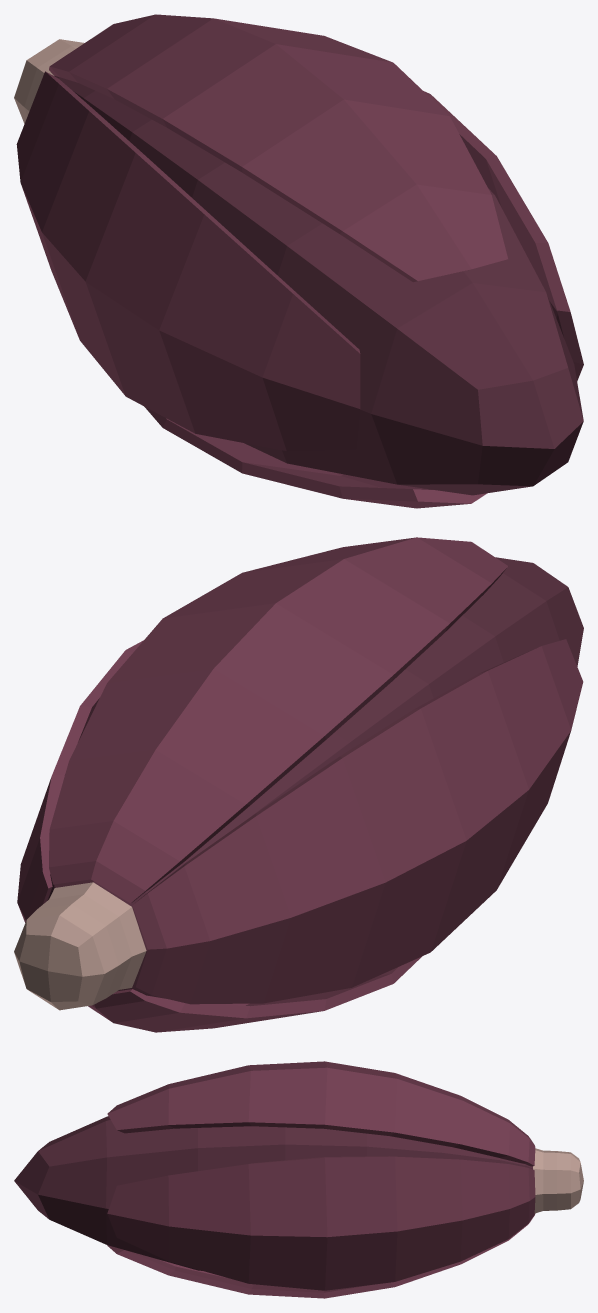
Rendered from Banana Heart.fbx.
3 views of the same model, one above another, from view 1: azimuth 30°, elevation 25°; view 2: azimuth 150°, elevation 25°; view 3: azimuth 270°, elevation 25° (orthographic). The views are drawn at different scales.
Visible parts, largest first — view 1: Banana Heart; view 2: Banana Heart; view 3: Banana Heart.
Boxes of the visible parts, x1,y1,x2,y2 form: Banana Heart: (14, 14, 583, 508); Banana Heart: (14, 537, 583, 1032); Banana Heart: (14, 1061, 583, 1298).
Bounding box in the file's own units: 27.72 × 27.74 × 63.83.
